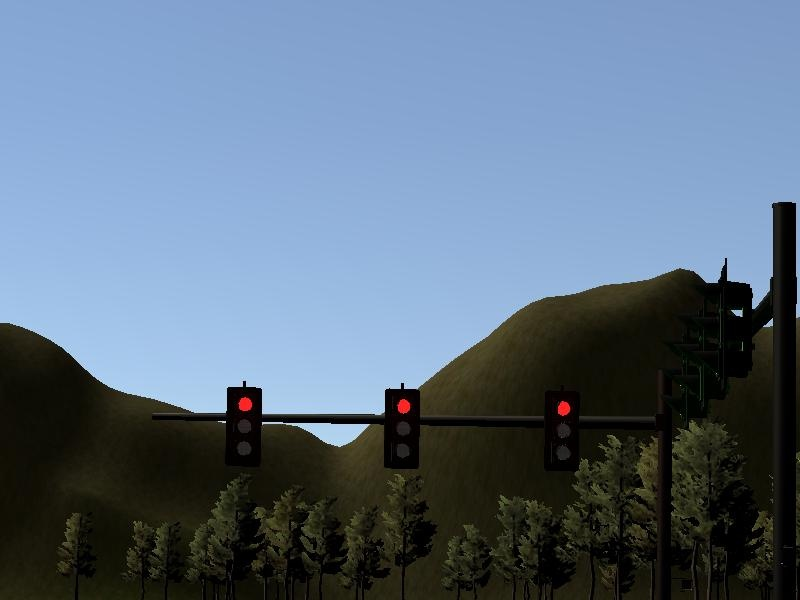traffic_light_red: (209, 384, 632, 471)
